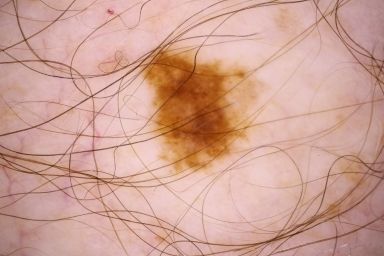nevus: (142, 53, 243, 174)
